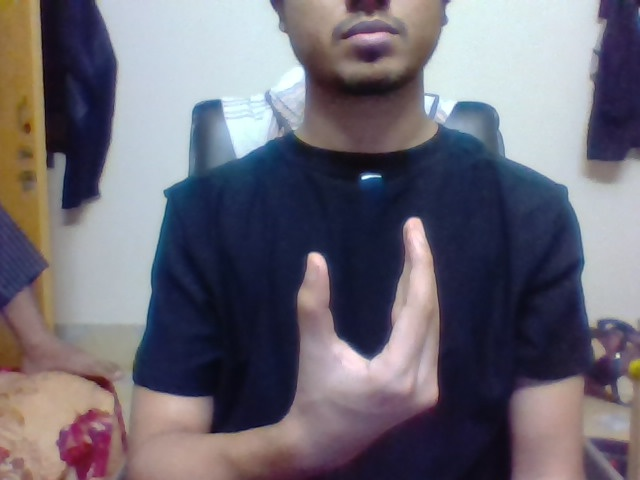U: (283, 202, 459, 389)
